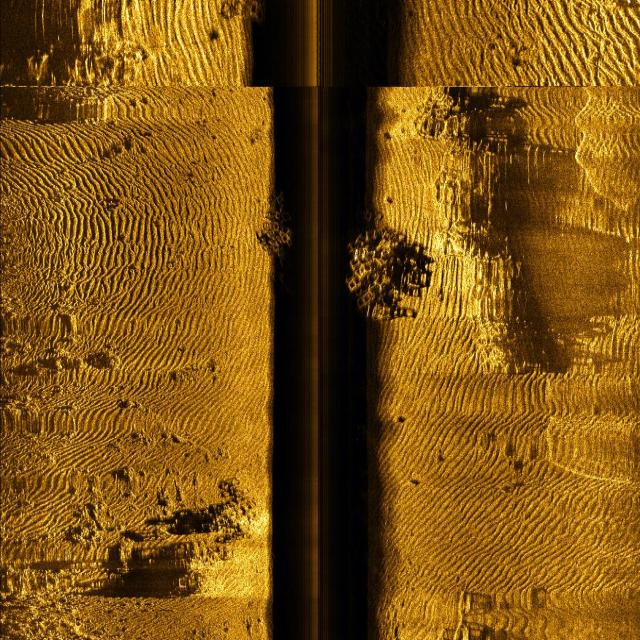artificial reef: (343, 208, 427, 334), (252, 168, 299, 264)
